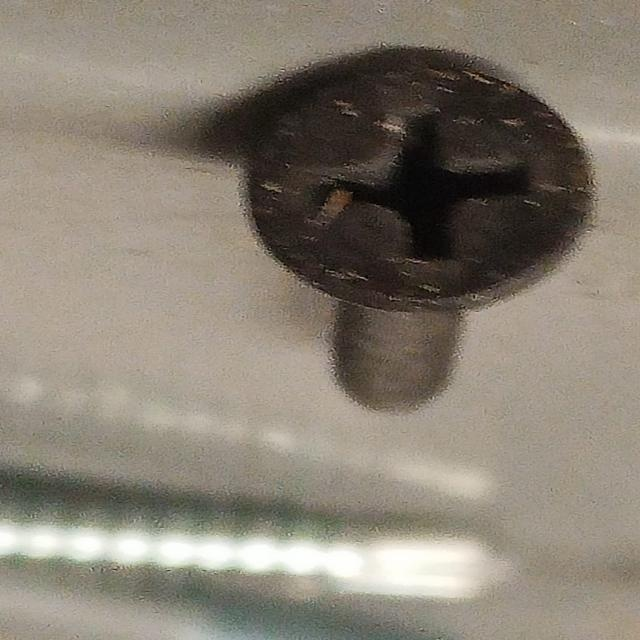phillips: (239, 56, 592, 316)
